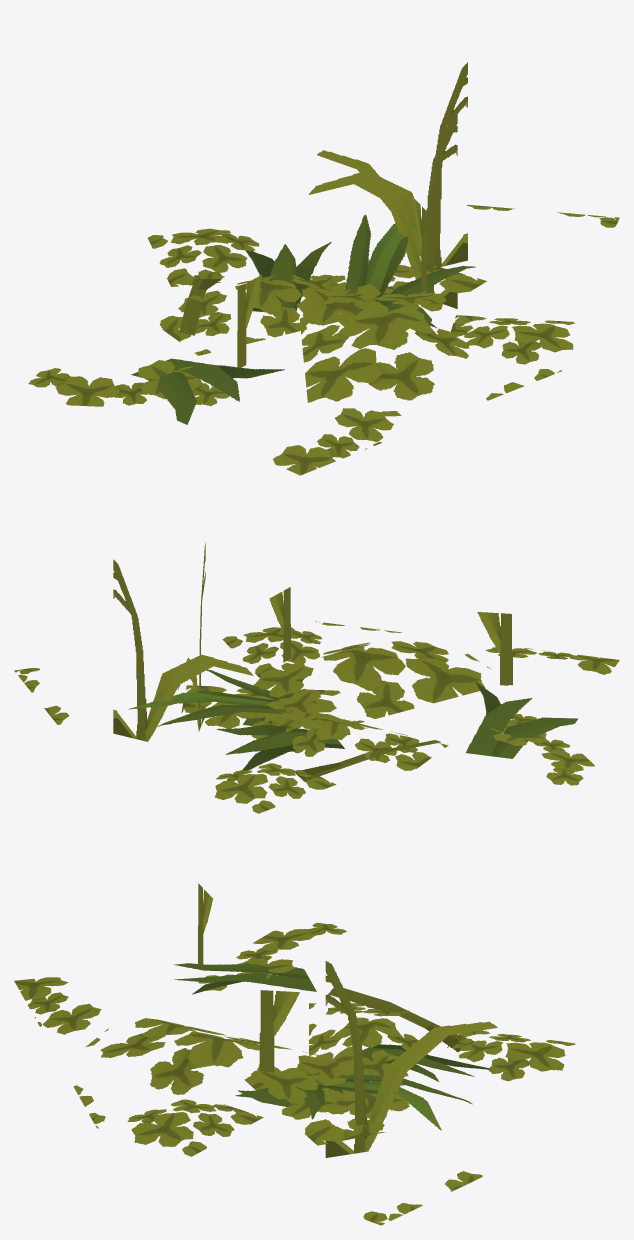
The model's file is SM_Env_Ground_Cover_03.fbx.
3 renders of one model, top to bottom at view 1: azimuth 30°, elevation 25°; view 2: azimuth 150°, elevation 25°; view 3: azimuth 270°, elevation 25°, orthographic. The views are drawn at different scales.
Visible parts, largest first — view 1: SM_Env_Ground_Cover_03; view 2: SM_Env_Ground_Cover_03; view 3: SM_Env_Ground_Cover_03.
Boxes of the visible parts, x1,y1,x2,y2 form: SM_Env_Ground_Cover_03: (28, 62, 619, 475); SM_Env_Ground_Cover_03: (14, 543, 619, 813); SM_Env_Ground_Cover_03: (14, 883, 575, 1225).
Size of the model in its own units: 199 by 70.74 by 163.
